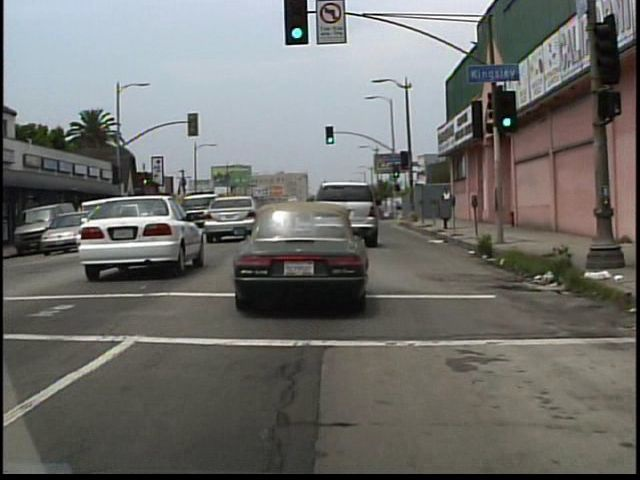person: (440, 185, 454, 221)
